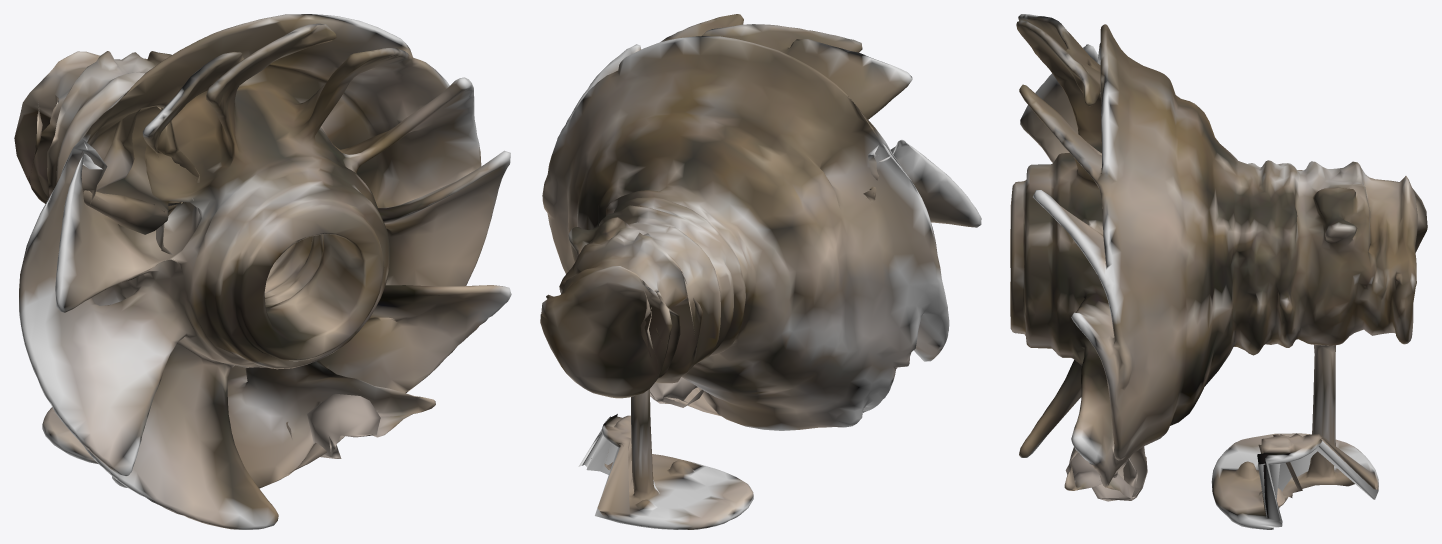
File: impeller_defect.glb
3 views of the same model, side by side, from view 1: azimuth 30°, elevation 25°; view 2: azimuth 150°, elevation 25°; view 3: azimuth 270°, elevation 25° (orthographic). The views are drawn at different scales.
Visible parts, largest first — view 1: tmpx8pool2t.ply; view 2: tmpx8pool2t.ply; view 3: tmpx8pool2t.ply.
Boxes of the visible parts, <box> form: tmpx8pool2t.ply: <box>14,14,511,529</box>; tmpx8pool2t.ply: <box>540,14,981,529</box>; tmpx8pool2t.ply: <box>1010,14,1427,529</box>.
Bounding box in the file's own units: 1 × 0.9484 × 0.822.
